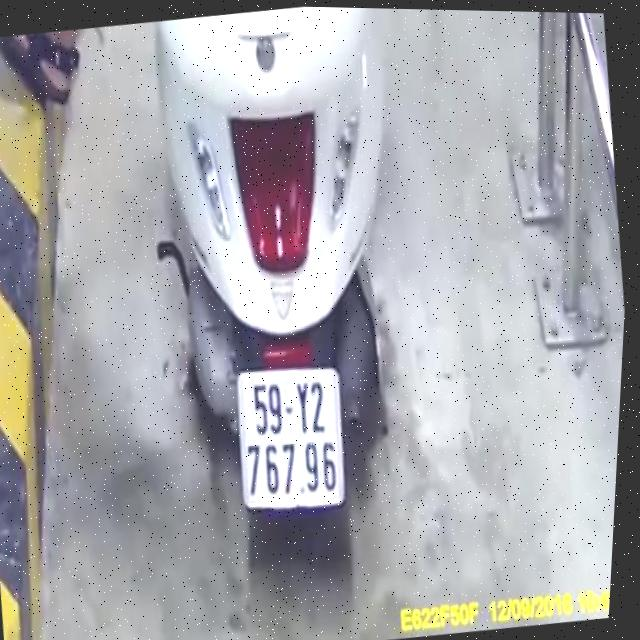motorcycle: (102, 3, 444, 560)
plate: (223, 359, 354, 518)
